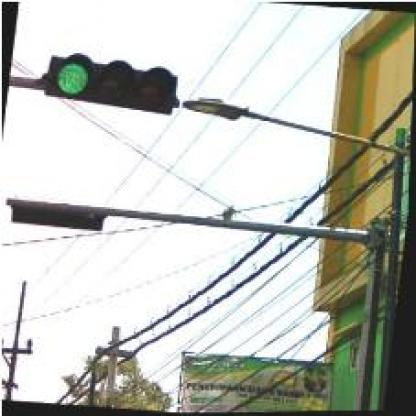green: (38, 50, 182, 118)
